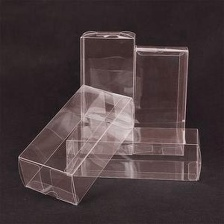plastic_box: (12, 79, 140, 210), (59, 119, 207, 186), (74, 24, 140, 159), (127, 40, 193, 160)
